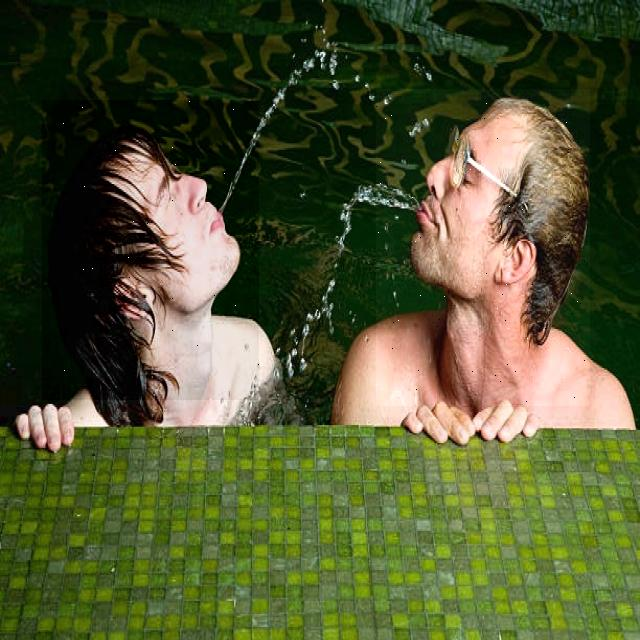Spitting: (376, 89, 590, 406), (42, 100, 259, 400)
